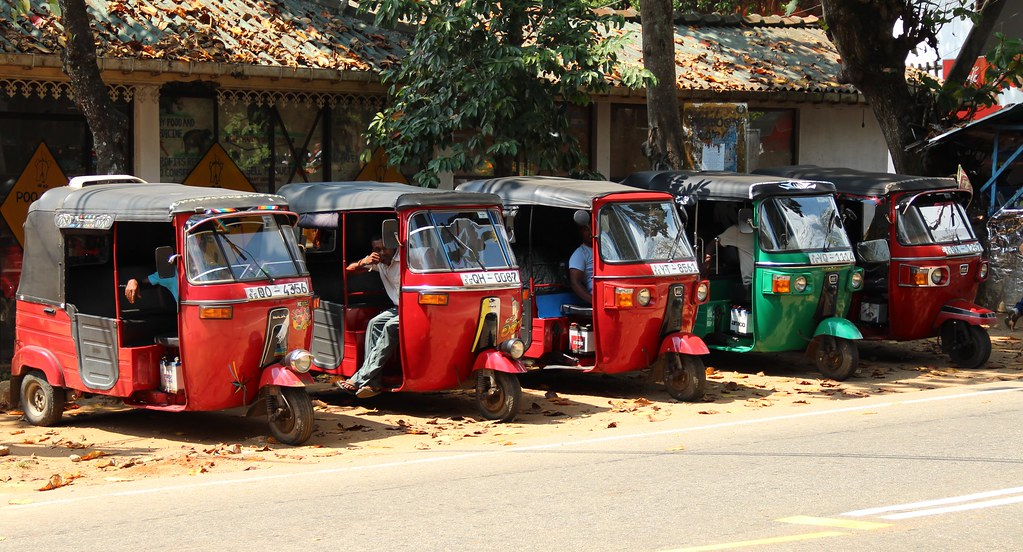tuk tuk: (14, 179, 325, 443), (313, 175, 532, 424), (522, 177, 714, 406), (701, 169, 865, 379), (865, 168, 998, 370)
